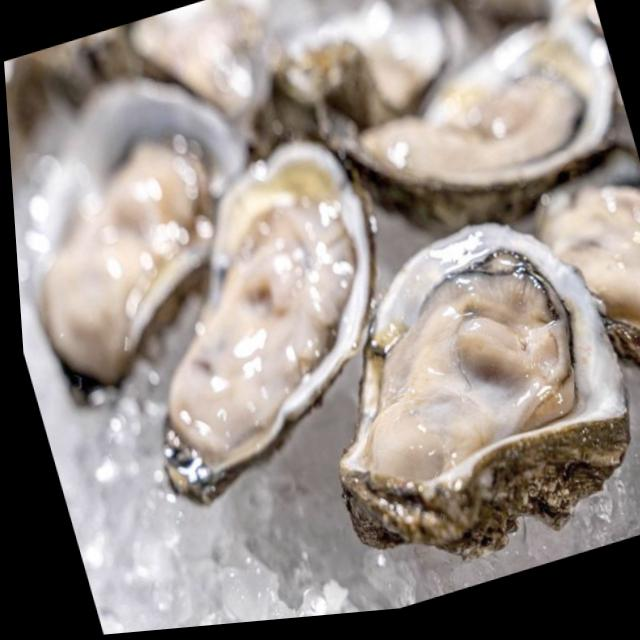Oyster-Open: (339, 223, 630, 558), (25, 79, 244, 383), (168, 142, 370, 471), (338, 23, 614, 228), (253, 0, 447, 156), (536, 175, 640, 365), (130, 0, 269, 115)
